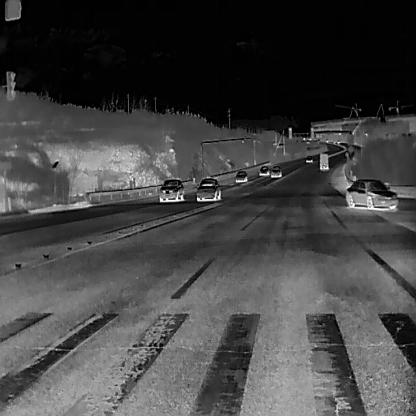car: (344, 177, 398, 209), (194, 176, 220, 202), (158, 178, 184, 201), (234, 170, 247, 183), (269, 165, 281, 177), (257, 164, 269, 176), (304, 154, 312, 162), (324, 138, 328, 143), (336, 139, 340, 143), (332, 140, 336, 144), (316, 139, 320, 142)
truck: (318, 152, 328, 170)
